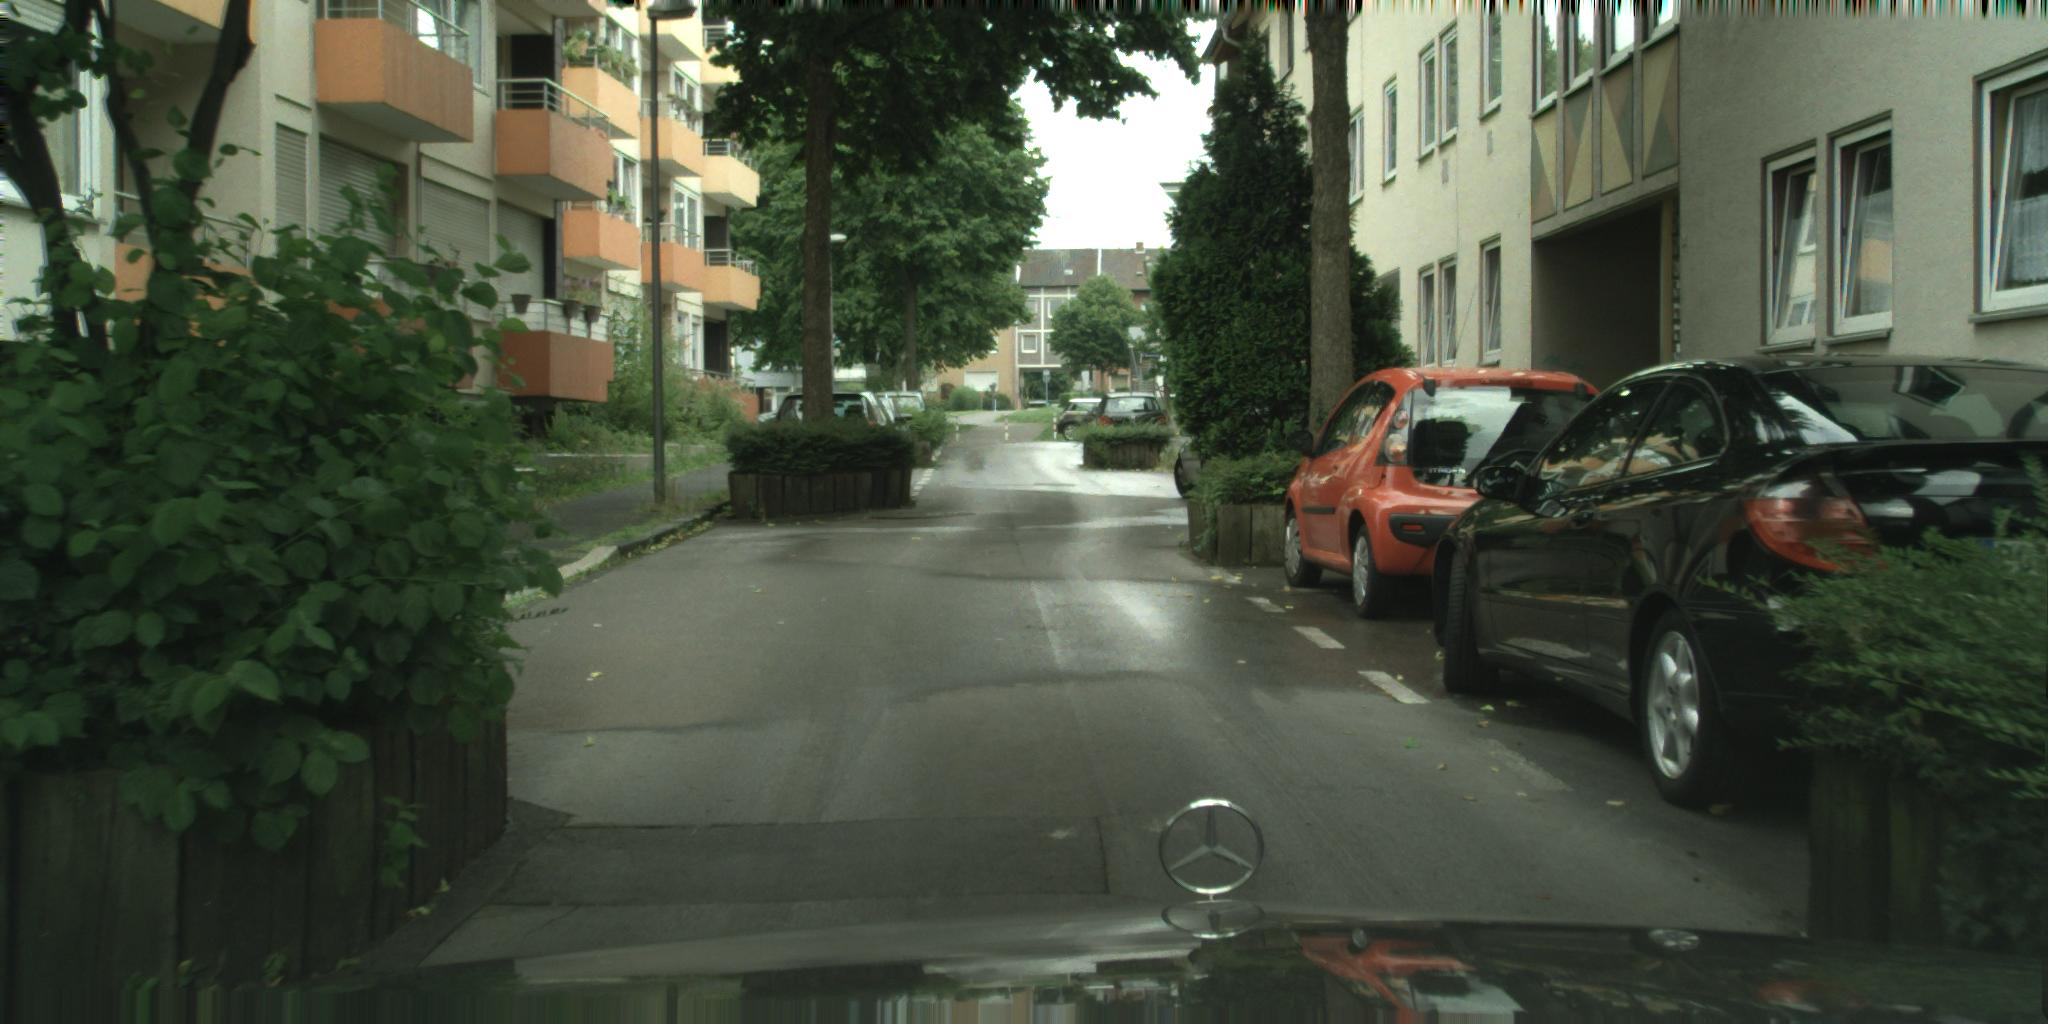car: (1432, 353, 2048, 806), (1283, 367, 1614, 620), (775, 391, 910, 445), (1089, 393, 1170, 439), (1174, 431, 1219, 499), (853, 398, 914, 445), (869, 392, 927, 434), (1057, 398, 1108, 441)
